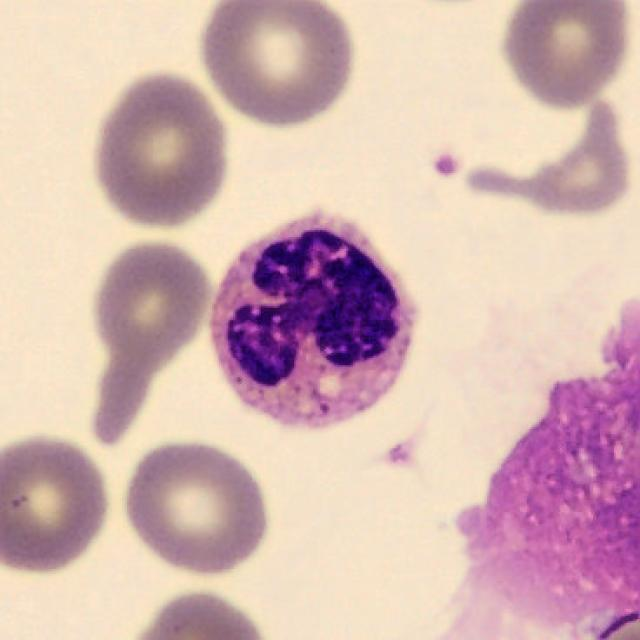Neutrofilo segmentado: (210, 211, 419, 432)
